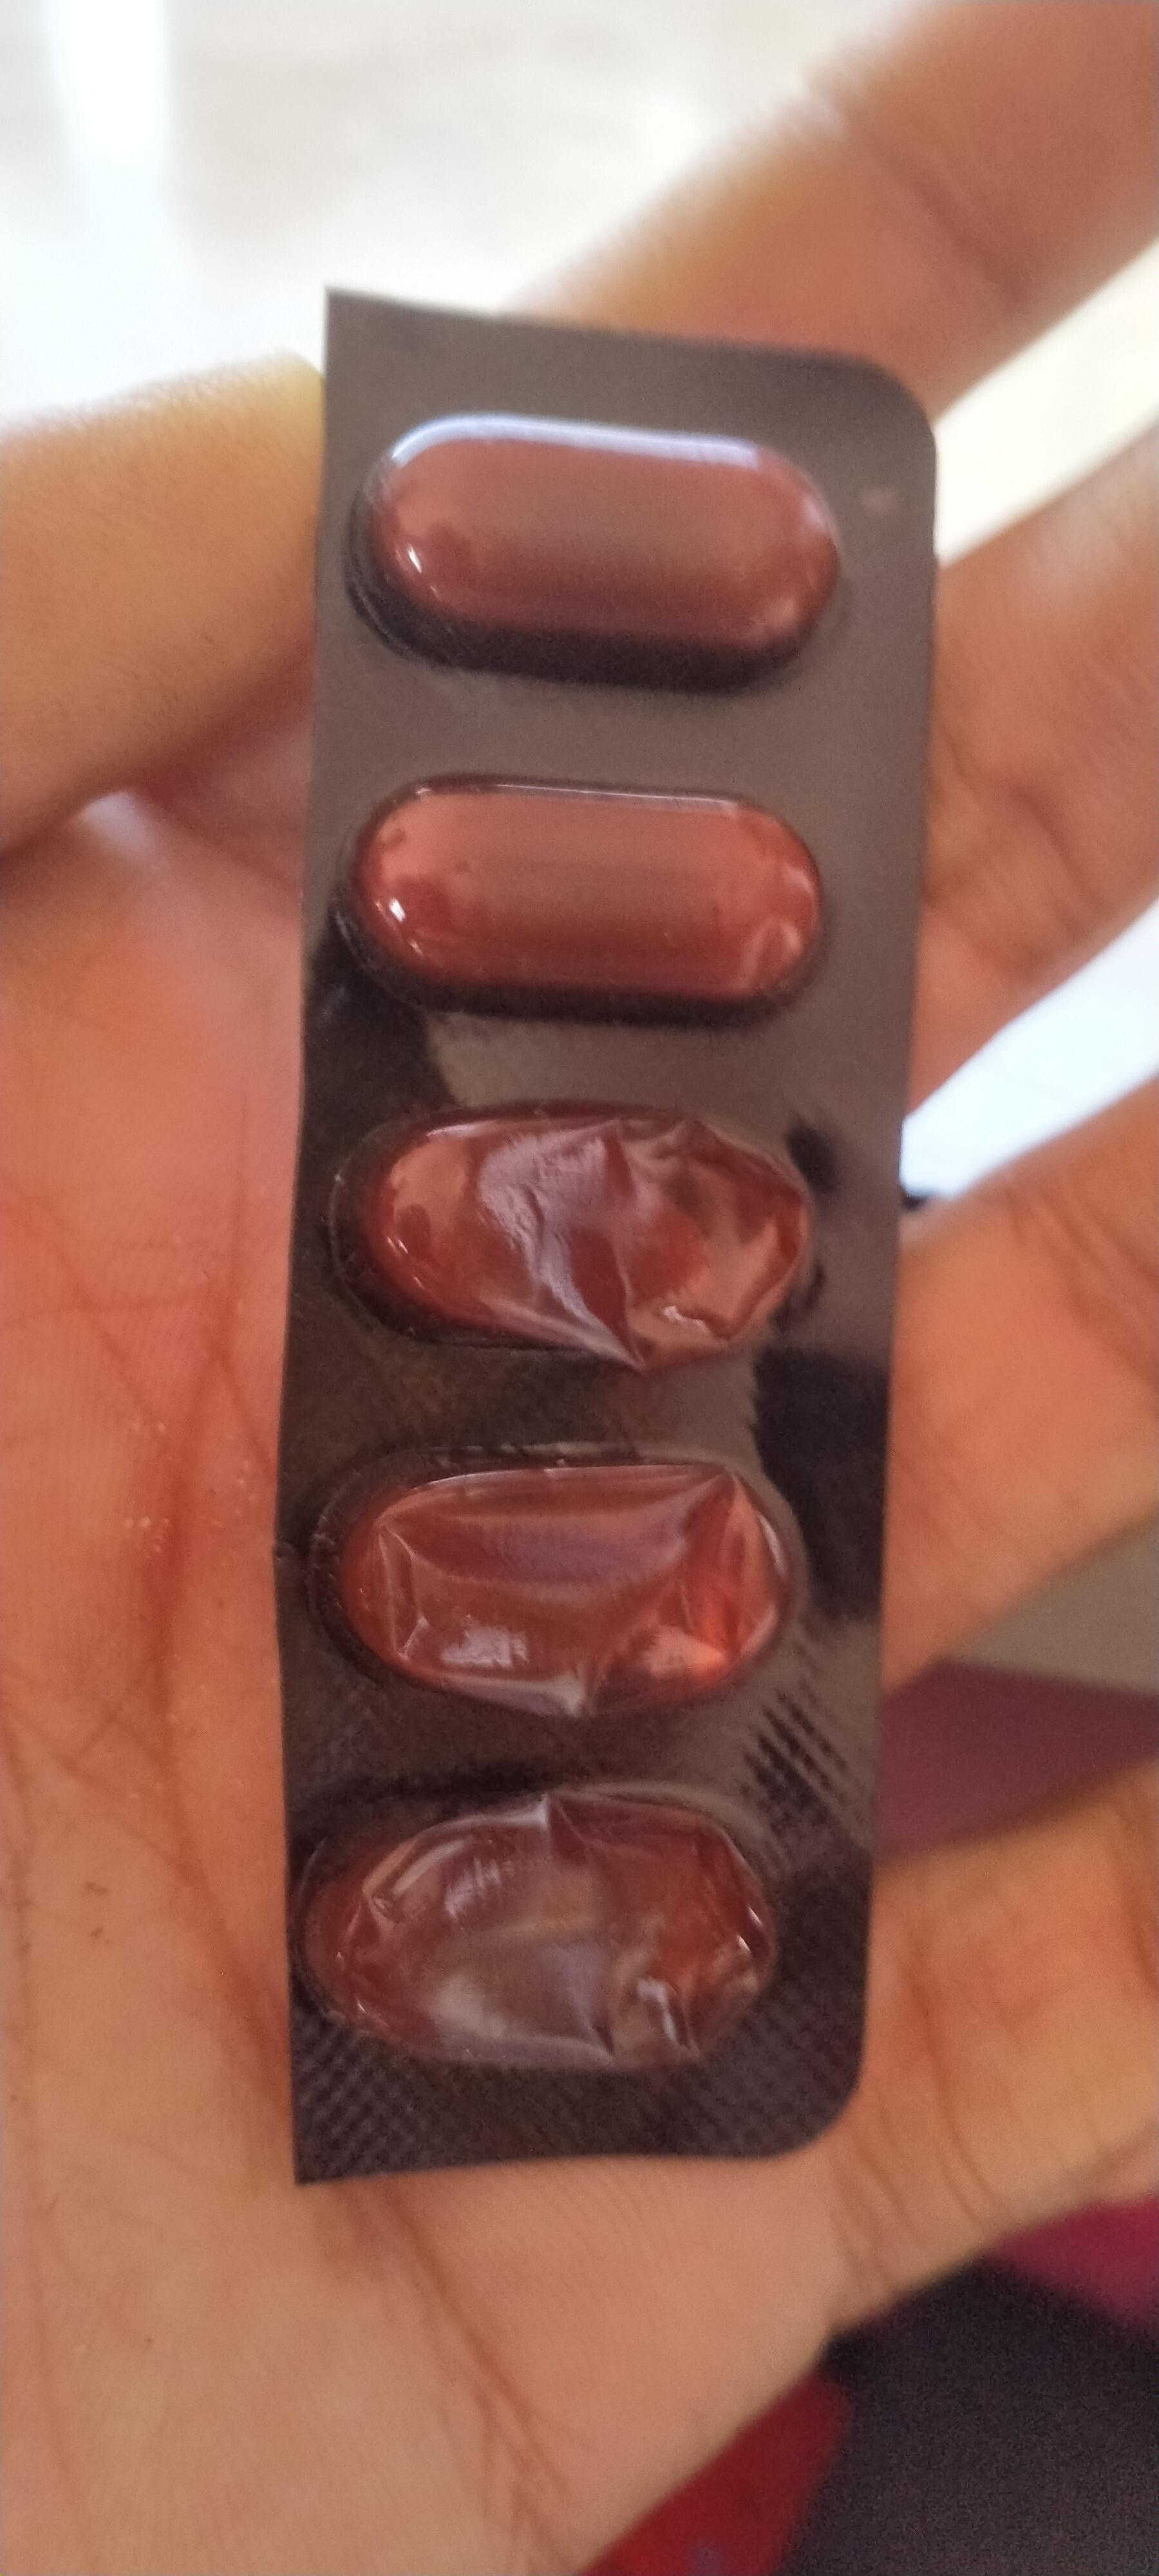trash: (274, 263, 951, 2239)
